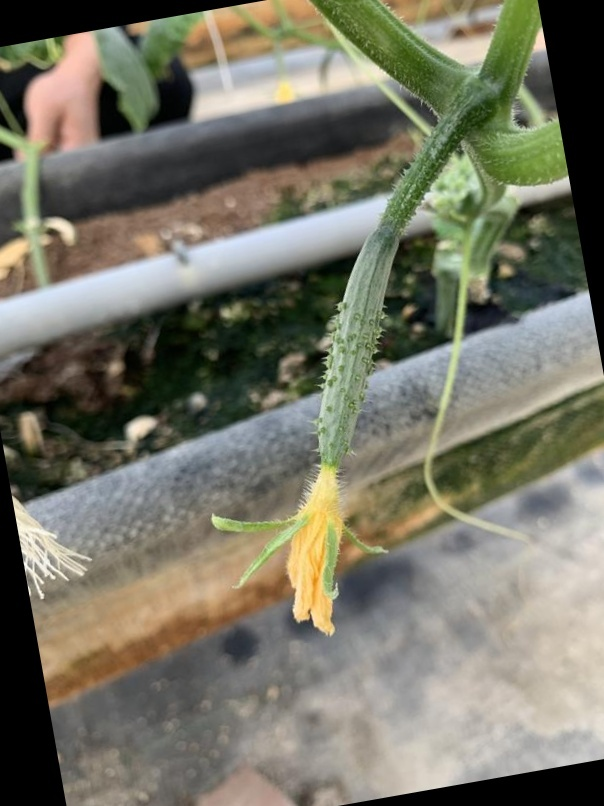bear: (204, 201, 464, 649)
